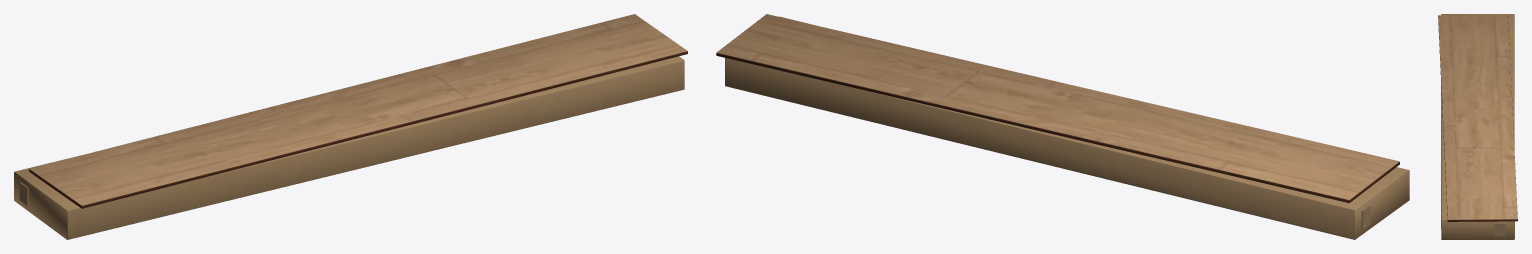
File: PIS-OUT-004_lod1.glb
3 renders of one model, left to right at view 1: azimuth 30°, elevation 25°; view 2: azimuth 150°, elevation 25°; view 3: azimuth 270°, elevation 25°, orthographic. The views are drawn at different scales.
Parts seen in each view (by area): view 1: PIS-OUT-004_face, PIS-OUT-004_caixa, PIS-OUT-004_corpo; view 2: PIS-OUT-004_face, PIS-OUT-004_caixa, PIS-OUT-004_corpo; view 3: PIS-OUT-004_face, PIS-OUT-004_caixa, PIS-OUT-004_corpo, PIS-OUT-004_faixa.
Part boxes in pixels (box(x1,y1,x2,y2)): PIS-OUT-004_face: box(29, 14, 687, 205); PIS-OUT-004_caixa: box(14, 56, 684, 239); PIS-OUT-004_corpo: box(29, 51, 687, 208); PIS-OUT-004_face: box(716, 14, 1399, 200); PIS-OUT-004_caixa: box(725, 16, 1409, 239); PIS-OUT-004_corpo: box(716, 53, 1399, 203); PIS-OUT-004_face: box(1438, 14, 1517, 219); PIS-OUT-004_caixa: box(1441, 14, 1514, 239); PIS-OUT-004_corpo: box(1438, 15, 1517, 221); PIS-OUT-004_faixa: box(1494, 223, 1505, 236).
Bounding box in the file's own units: 1.38 × 0.0716 × 0.2238.
Materials: 6 (4 with a texture image).
